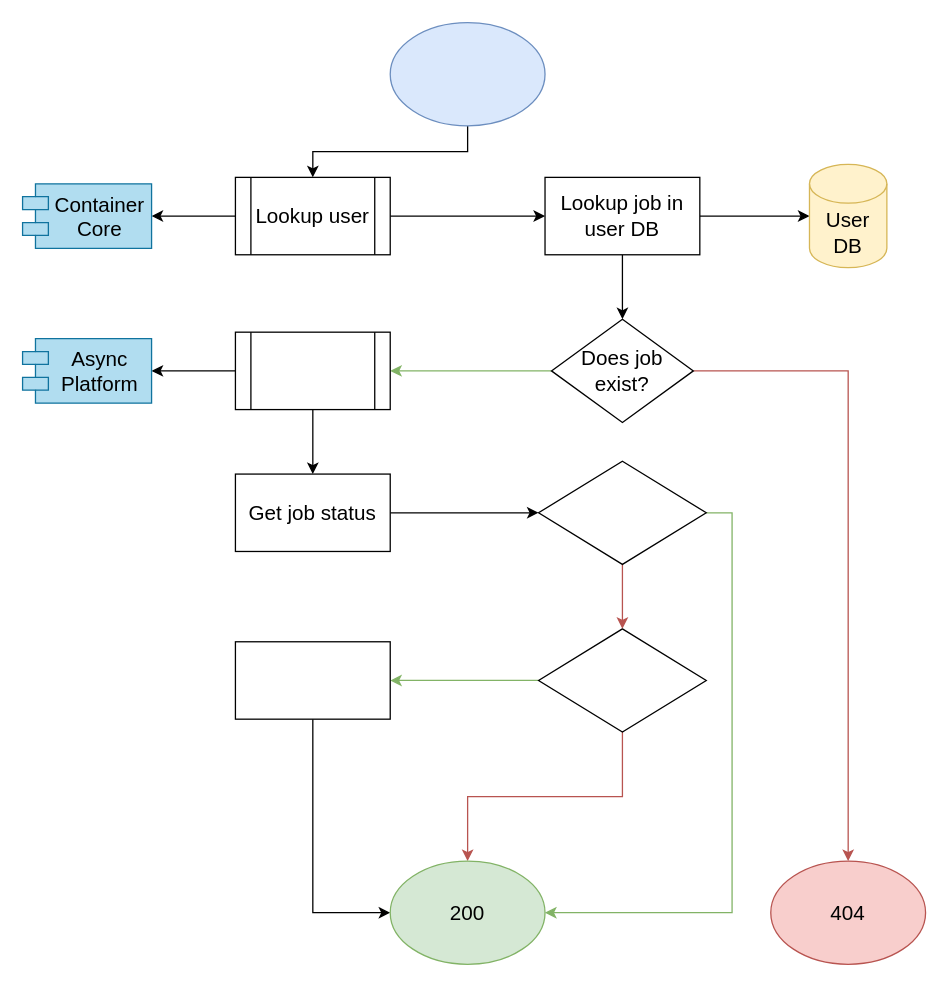
Some shapes in this 948 by 987 pixel diagram are drawn without their labels. The shapes that lost their labels are listed below. From the top down, each one's centre as x and y in pixels, then its label:
the point at 467,73: Start
the point at 312,370: Lookup job in platform
the point at 621,512: Is user linked to job?
the point at 312,679: Link user to job
the point at 621,680: Is `linkUser` true?
